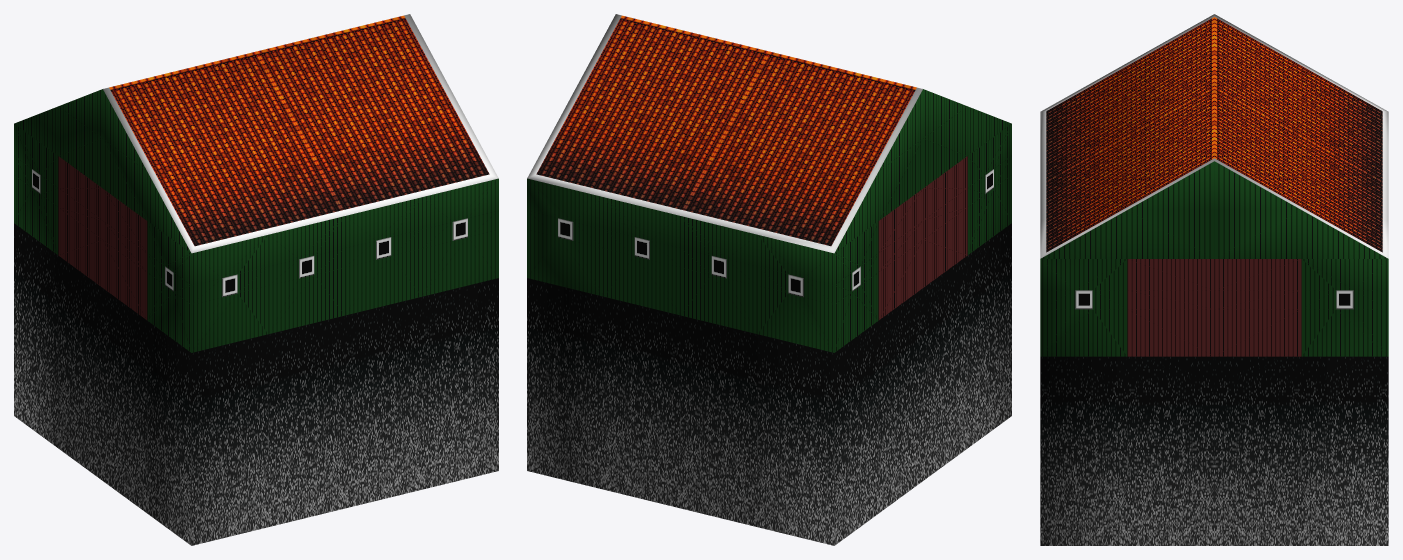
Rendered from schuur_mod4_1c.fbx.
3 renders of one model, left to right at view 1: azimuth 30°, elevation 25°; view 2: azimuth 150°, elevation 25°; view 3: azimuth 270°, elevation 25°, orthographic.
Parts seen in each view (by area): view 1: schuur_mod4_1c; view 2: schuur_mod4_1c; view 3: schuur_mod4_1c.
Boxes of the visible parts, x1,y1,x2,y2 form: schuur_mod4_1c: (14, 14, 498, 545); schuur_mod4_1c: (527, 14, 1011, 545); schuur_mod4_1c: (1040, 14, 1388, 545).
Size of the model in its own units: 750 by 914 by 750.
